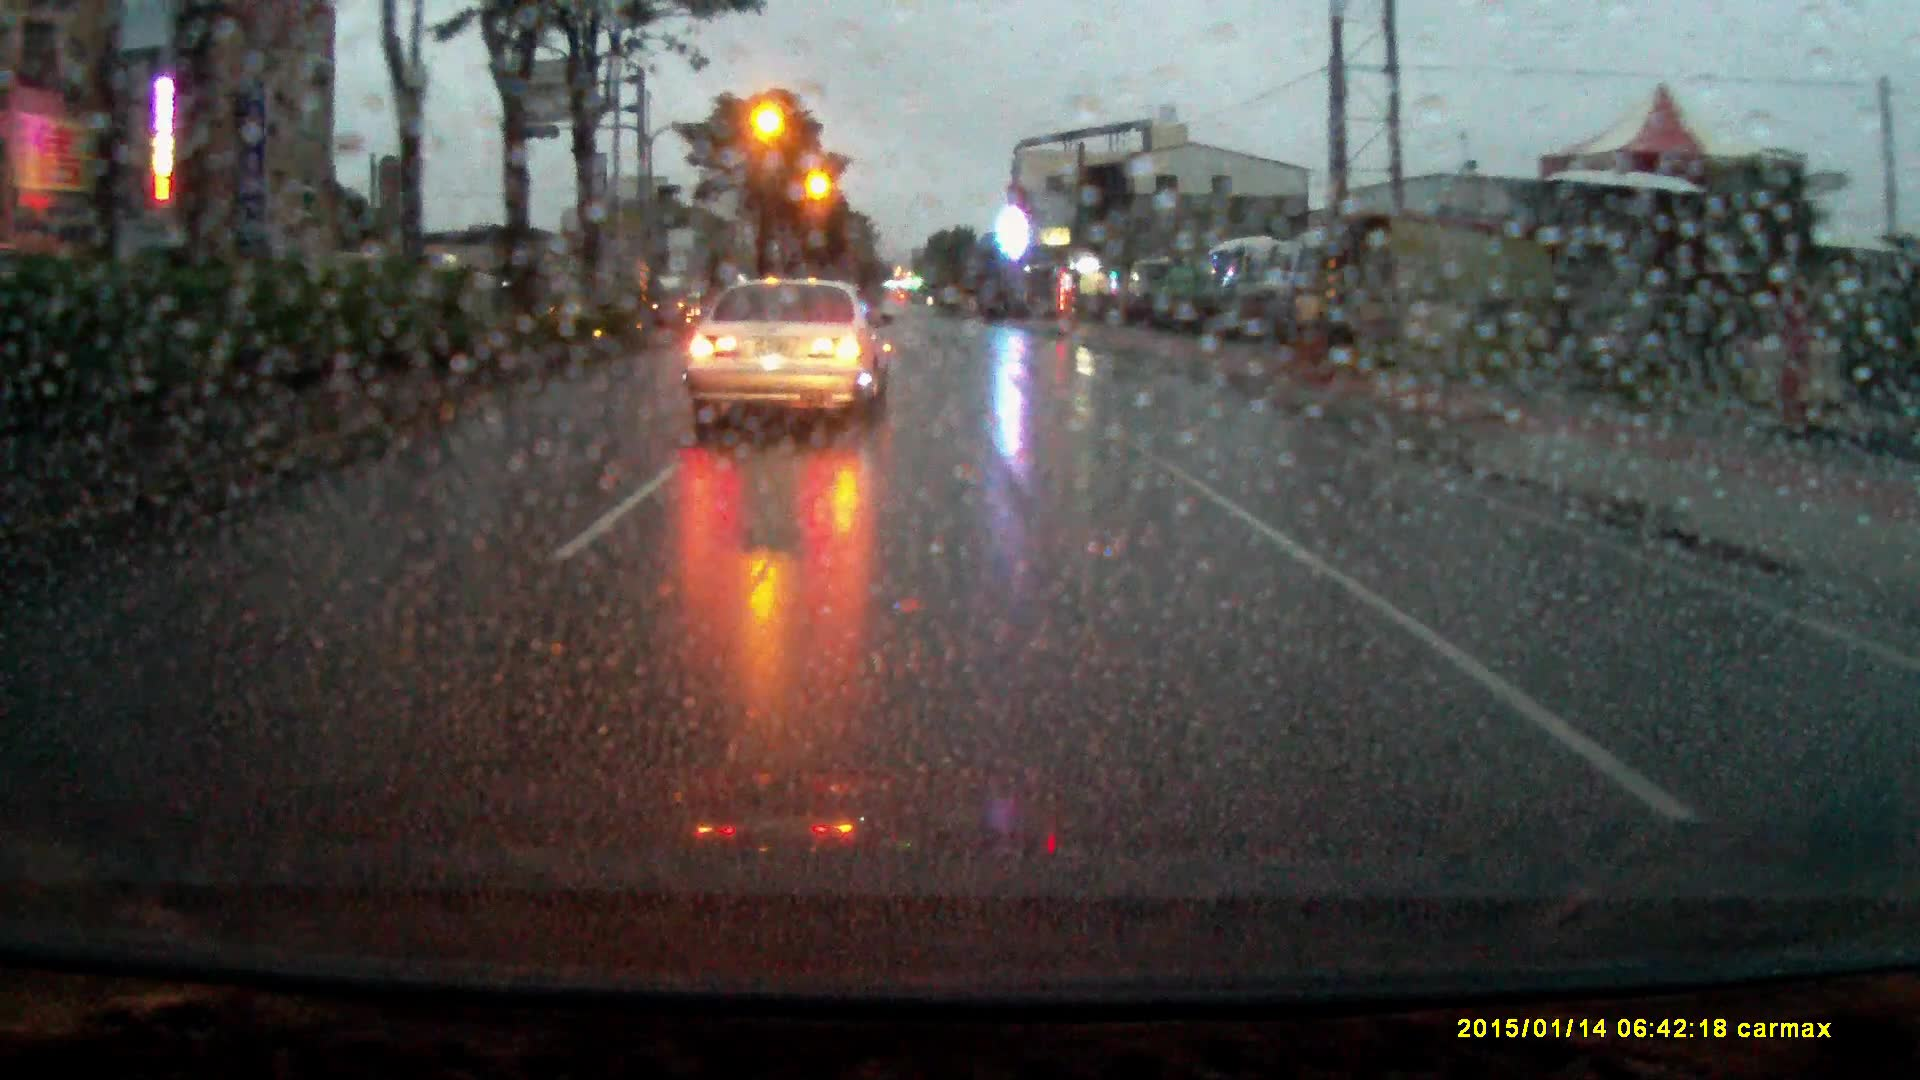vehicle: (684, 274, 898, 446), (1207, 237, 1298, 343), (1125, 258, 1182, 328), (1159, 270, 1212, 318), (657, 280, 705, 328)
